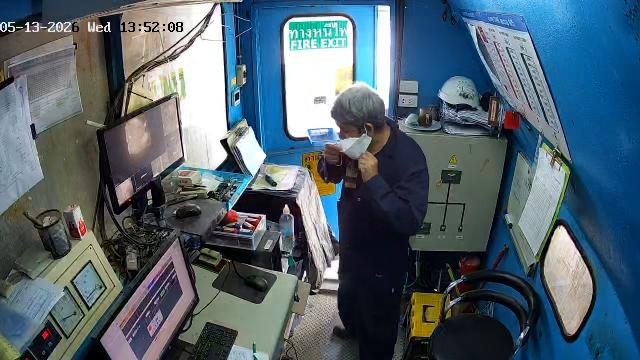Head: (331, 83, 385, 138)
People: (318, 84, 428, 359)
